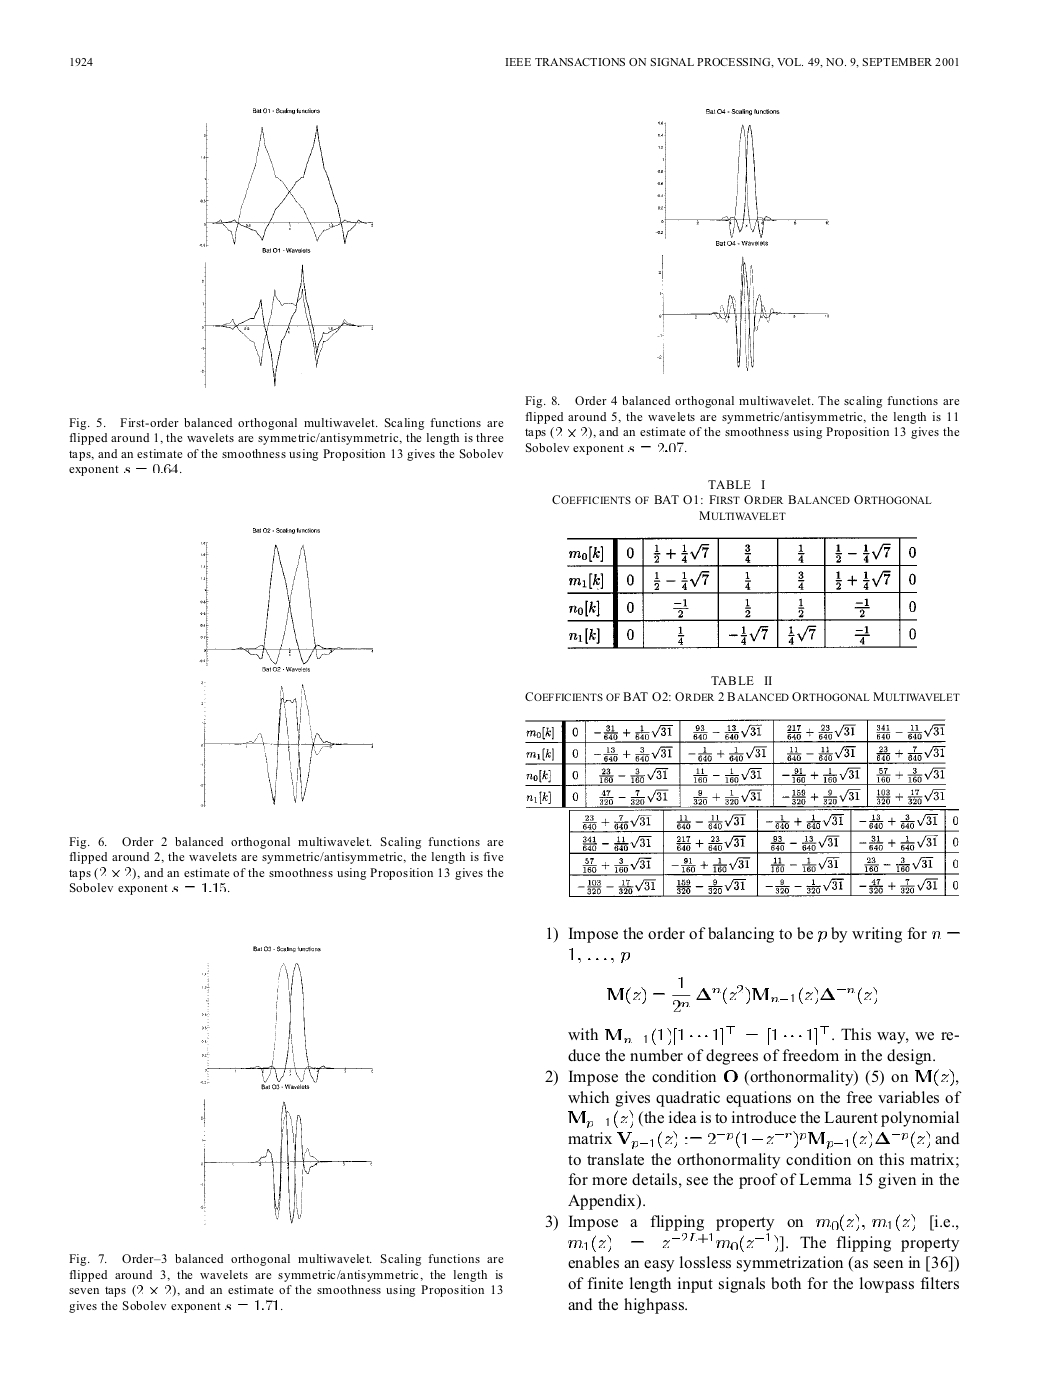Table: (525, 718, 958, 897), (567, 535, 916, 649)
figure: (199, 121, 372, 253), (199, 541, 372, 672), (199, 962, 372, 1090), (199, 261, 372, 388), (199, 680, 372, 807), (199, 1098, 371, 1225), (655, 120, 828, 246), (658, 254, 828, 374)
formula: (607, 976, 876, 1012)
